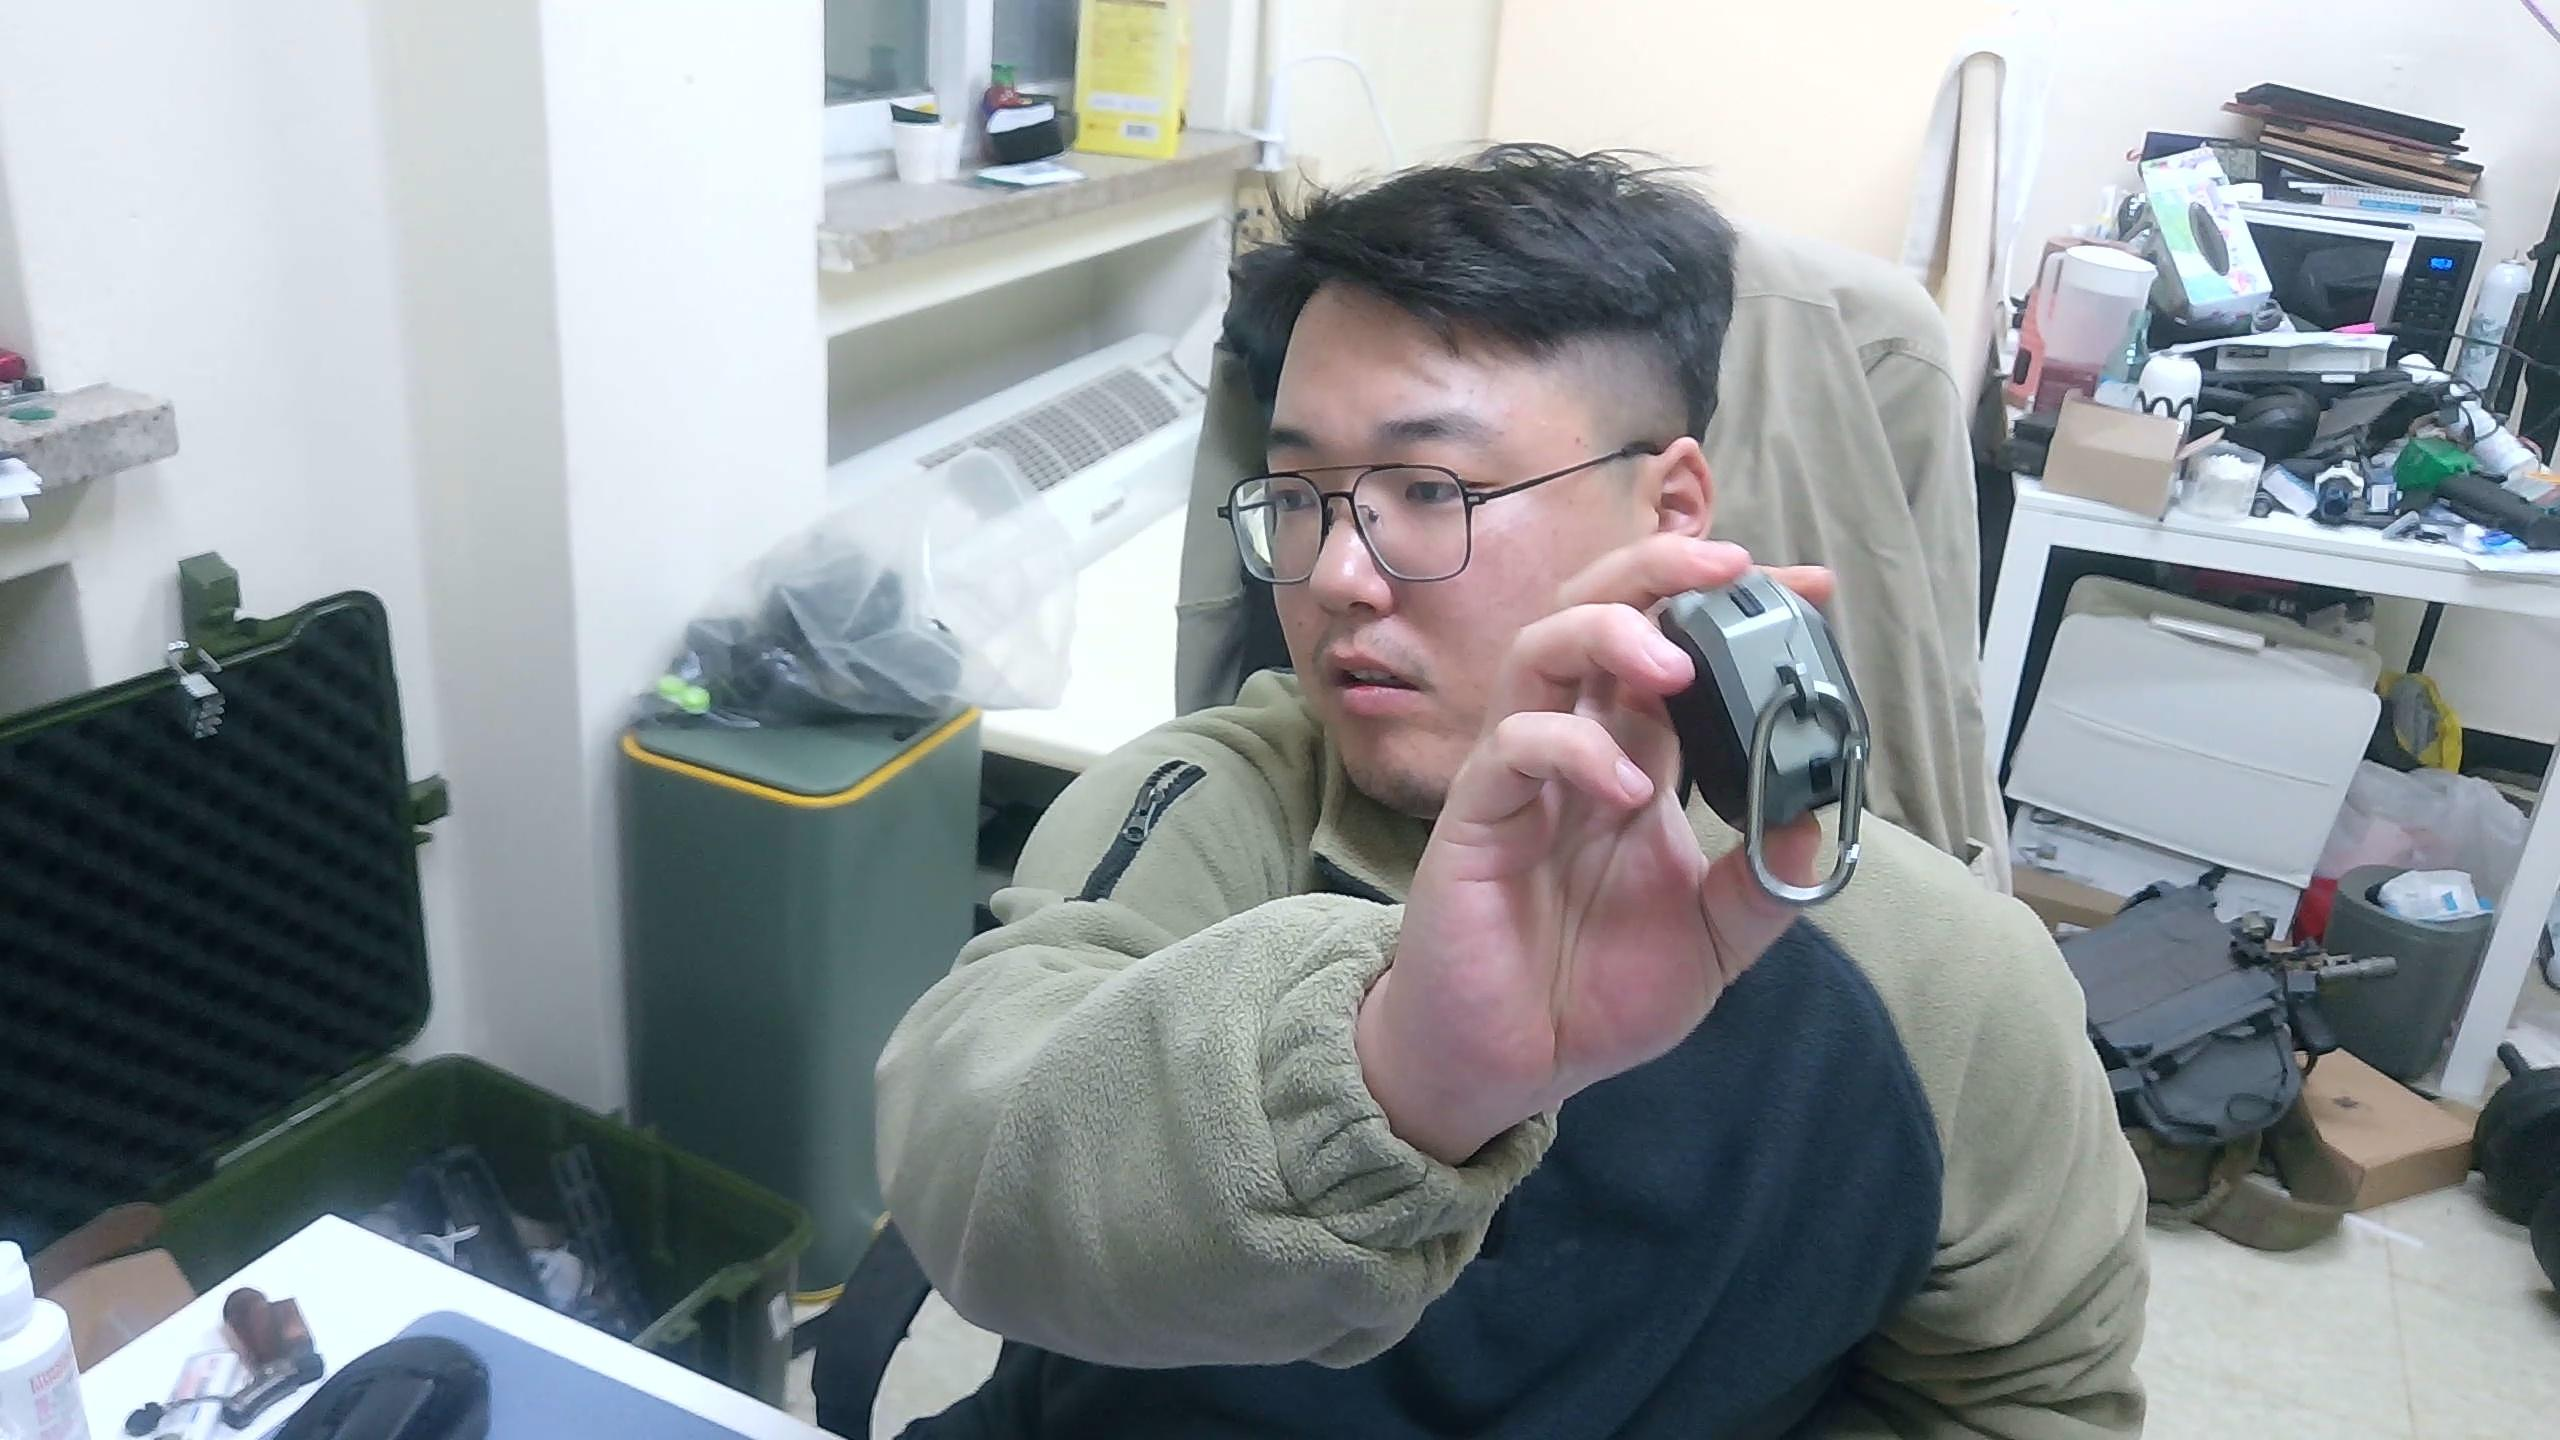blue_pliers: (1647, 563, 1876, 907)
